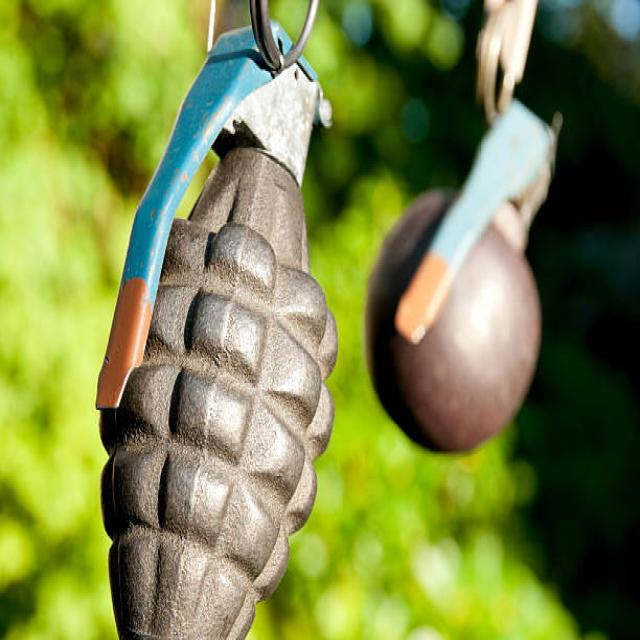grenade: (93, 1, 341, 640), (361, 98, 567, 459)
